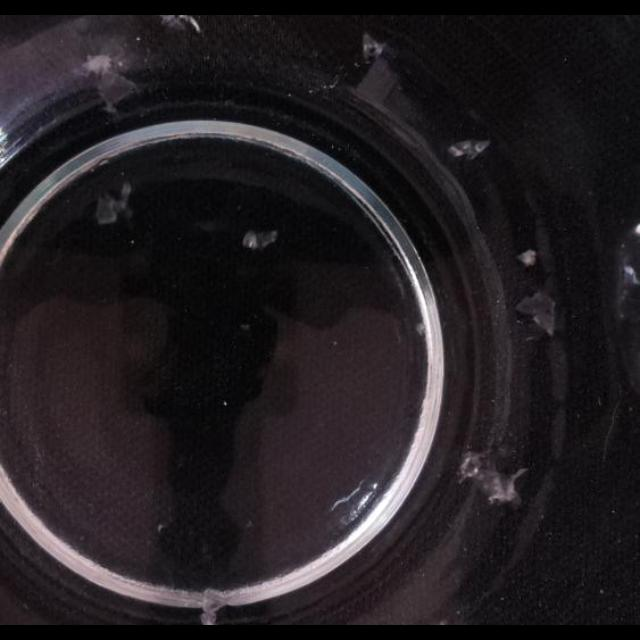Fibre: (457, 449, 527, 507), (80, 52, 142, 111), (516, 290, 556, 338), (95, 181, 135, 225), (82, 53, 118, 79), (458, 451, 488, 482), (448, 139, 489, 161), (199, 590, 227, 622), (242, 229, 280, 251), (160, 16, 200, 36), (361, 32, 385, 62), (517, 250, 537, 266), (414, 321, 426, 337)
microbeads: (156, 522, 168, 534), (244, 518, 254, 530), (240, 323, 250, 331), (597, 396, 603, 406), (222, 400, 228, 406)
